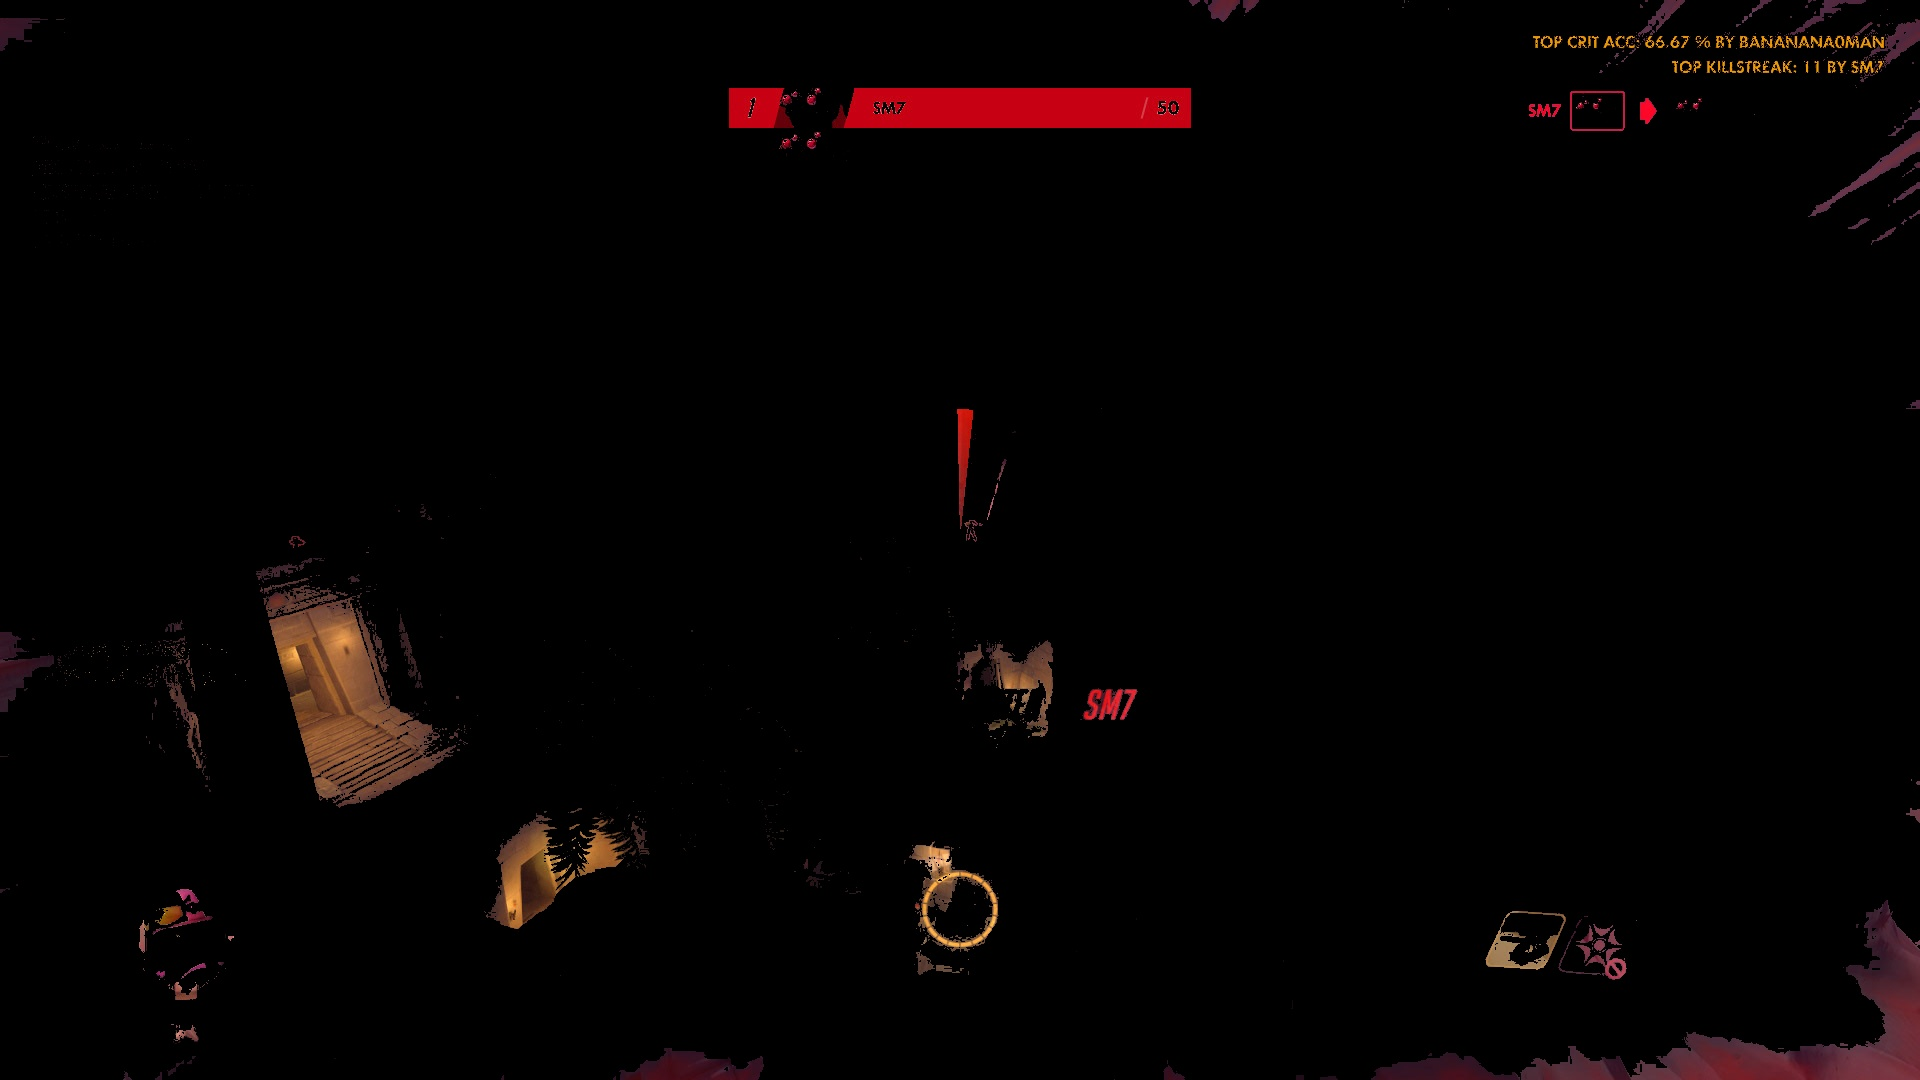widowmaker: (961, 517, 985, 546), (286, 531, 305, 553)
